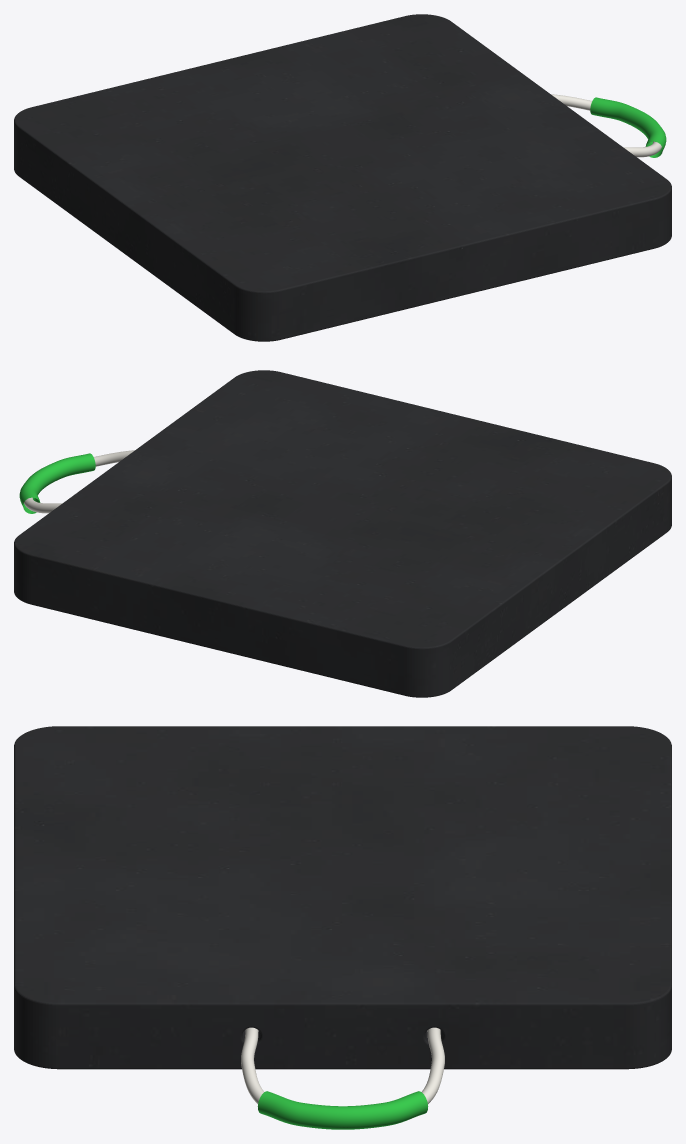
3 views of the same model, one above another, from view 1: azimuth 30°, elevation 25°; view 2: azimuth 150°, elevation 25°; view 3: azimuth 270°, elevation 25° (orthographic). The views are drawn at different scales.
Visible parts, largest first — view 1: plate, sleeve, rope; view 2: plate, sleeve, rope; view 3: plate, sleeve, rope.
Boxes of the visible parts, x1=… form: plate: x1=14, y1=14, x2=671, y2=341; sleeve: x1=590, y1=97, x2=666, y2=157; rope: x1=551, y1=94, x2=661, y2=157; plate: x1=14, y1=370, x2=671, y2=697; sleeve: x1=19, y1=453, x2=95, y2=513; rope: x1=24, y1=450, x2=134, y2=513; plate: x1=14, y1=726, x2=671, y2=1069; sleeve: x1=257, y1=1091, x2=428, y2=1129; rope: x1=241, y1=1027, x2=444, y2=1103.
Size of the model in its own units: 0.5562 by 0.0536 by 0.4572.
Materials: 3 (1 with a texture image).
